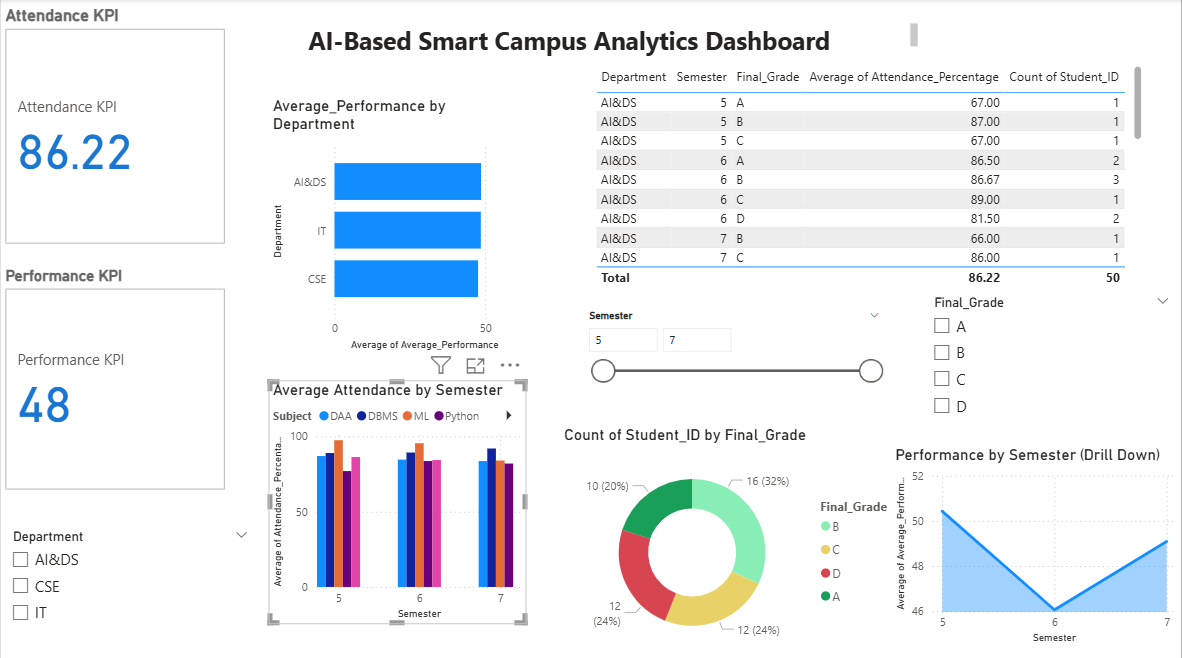

The dashboard page shown, as its layout file describes it:
{"tool":"powerbi","page":{"name":"Page 1","canvas":[1280,720],"ordinal":0},"visuals":[{"type":"cardVisual","title":"Attendance KPI","fields":{"Data":["Avg(5 student_performance.Attendance_Percentage)"]},"box":[0,7.1,248.6,264.3],"z":0},{"type":"cardVisual","title":"Performance KPI","fields":{"Data":["Avg(5 student_performance.Average_Performance)"]},"box":[0,290,248,248],"z":1000},{"type":"slicer","fields":{"Values":["5 student_performance.Department"]},"box":[0,570,280,150],"z":2000},{"type":"slicer","fields":{"Values":["5 student_performance.Semester"]},"box":[625.7,332.9,340,104.3],"z":3000},{"type":"clusteredBarChart","title":"Average_Performance by Department","fields":{"Category":["5 student_performance.Department"],"Y":["Avg(5 student_performance.Average_Performance)"]},"box":[290,105.7,280,280],"z":4000},{"type":"clusteredColumnChart","title":"Average Attendance by Semester","fields":{"Category":["5 student_performance.Semester"],"Y":["Avg(5 student_performance.Attendance_Percentage)"],"Series":["5 student_performance.Subject"]},"box":[290,414.3,280,264.3],"z":5000},{"type":"tableEx","fields":{"Values":["5 student_performance.Department","5 student_performance.Semester","5 student_performance.Final_Grade","Avg(5 student_performance.Attendance_Percentage)","CountNonNull(5 student_performance.Student_ID)"]},"box":[640,67.1,602.9,248.6],"z":6000},{"type":"donutChart","fields":{"Category":["5 student_performance.Final_Grade"],"Y":["CountNonNull(5 student_performance.Student_ID)"]},"box":[605.7,462.9,378.6,257.1],"z":7000},{"type":"slicer","fields":{"Values":["5 student_performance.Final_Grade"]},"box":[1000,315.7,280,147.1],"z":8000},{"type":"areaChart","title":"Performance by Semester (Drill Down)","fields":{"Category":["5 student_performance.Department","5 student_performance.Semester","5 student_performance.Student_ID"],"Y":["Avg(5 student_performance.Average_Performance)"]},"box":[965.7,484.3,314.3,220],"z":9000},{"type":"textbox","box":[328.6,21.4,671.4,45.7],"z":11000}]}

Visuals, with their boxes in screenshot pixels (x1, y1, x2, y2), scaled from the page's 1280x720 canvas onto the 1182x658 screenshot:
"Attendance KPI" cardVisual: bbox=[0, 6, 230, 248]
"Performance KPI" cardVisual: bbox=[0, 265, 229, 492]
slicer - 5 student_performance.Department: bbox=[0, 521, 259, 657]
slicer - 5 student_performance.Semester: bbox=[578, 304, 892, 400]
"Average_Performance by Department" clusteredBarChart: bbox=[268, 97, 526, 352]
"Average Attendance by Semester" clusteredColumnChart: bbox=[268, 379, 526, 620]
tableEx - 5 student_performance.Department x 5 student_performance.Semester: bbox=[591, 61, 1148, 289]
donutChart - 5 student_performance.Final_Grade x CountNonNull(5 student_performance.Student_ID): bbox=[559, 423, 909, 657]
slicer - 5 student_performance.Final_Grade: bbox=[923, 289, 1181, 423]
"Performance by Semester (Drill Down)" areaChart: bbox=[892, 443, 1181, 644]
textbox: bbox=[303, 20, 923, 61]
